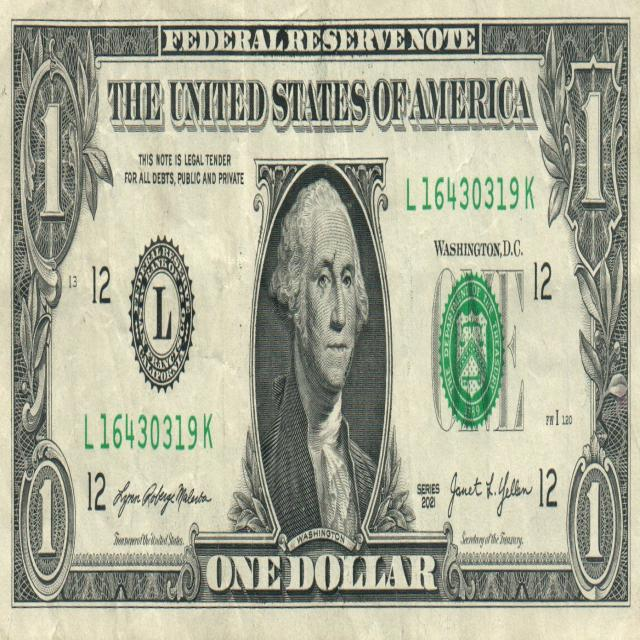SerialNumber: (85, 414, 212, 451), (422, 177, 534, 210)
